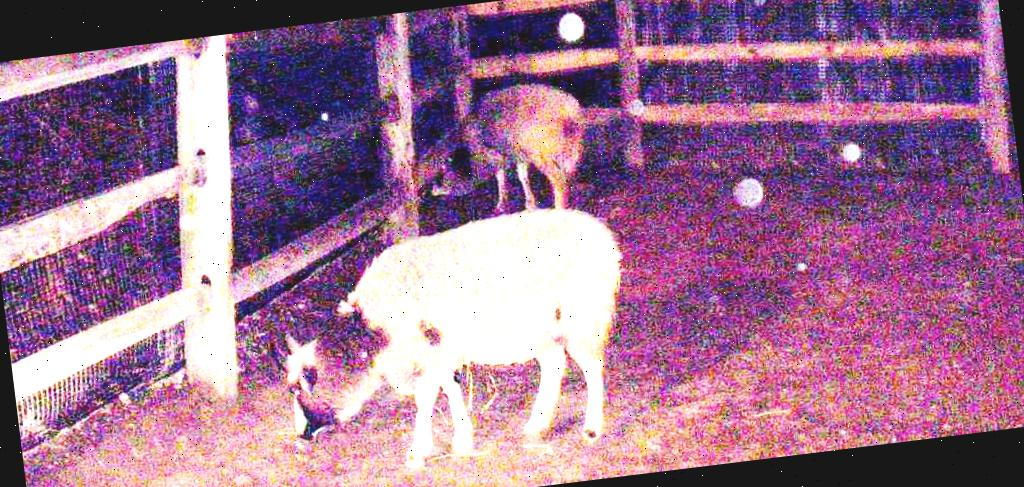Sheep: (288, 194, 630, 485), (448, 67, 600, 220)
